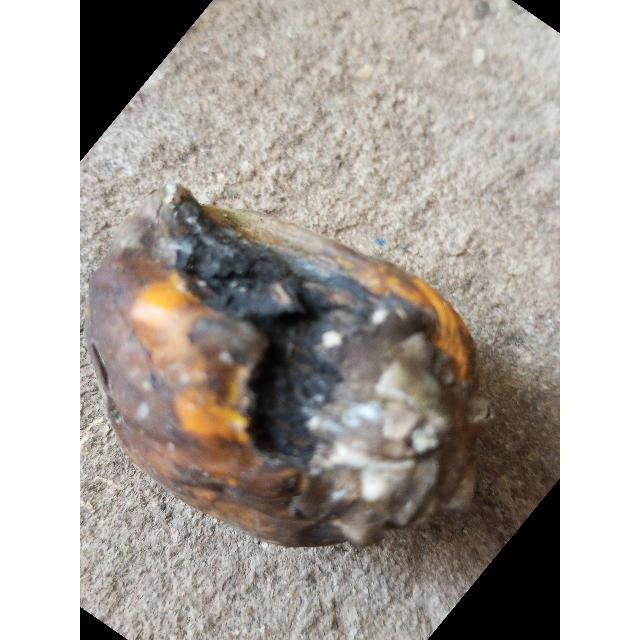damaged: (86, 183, 490, 553)
